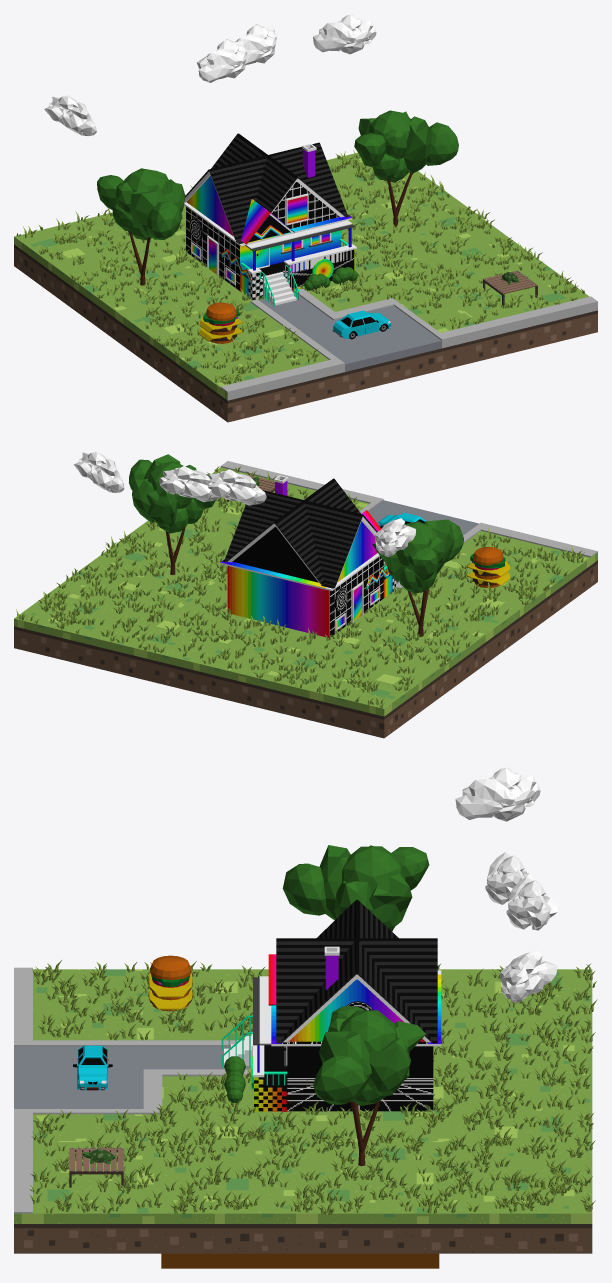
3 views of the same model, one above another, from view 1: azimuth 30°, elevation 25°; view 2: azimuth 150°, elevation 25°; view 3: azimuth 270°, elevation 25° (orthographic). The views are drawn at different scales.
Parts seen in each view (by area): view 1: Cube.006, Cube.1320, Circle.012_Grass_0.192, Cube.007, tree, tree.001, OBJRANDOM_HAMBURGER, VEHICLES_CAR, Cube.009; view 2: Cube.006, Cube.1320, Circle.012_Grass_0.192, Cube.007, tree.001, tree, OBJRANDOM_HAMBURGER; view 3: Cube.006, Circle.012_Grass_0.192, Cube.1320, tree, Cube.007, tree.001, UNDERGROUND_ART_PIECE_VAN_GOGH, OBJRANDOM_HAMBURGER, VEHICLES_CAR, Cube.009.
Part boxes in pixels (left/top/right/bottom): Cube.006: left=14, top=152, right=597, bottom=422; Cube.1320: left=184, top=133, right=356, bottom=306; Circle.012_Grass_0.192: left=16, top=150, right=584, bottom=384; Cube.007: left=44, top=14, right=376, bottom=136; tree: left=354, top=110, right=458, bottom=227; tree.001: left=97, top=168, right=185, bottom=285; OBJRANDOM_HAMBURGER: left=199, top=302, right=243, bottom=343; VEHICLES_CAR: left=332, top=310, right=391, bottom=339; Cube.009: left=483, top=270, right=537, bottom=305; Cube.006: left=14, top=461, right=597, bottom=738; Cube.1320: left=220, top=475, right=395, bottom=637; Circle.012_Grass_0.192: left=16, top=466, right=584, bottom=708; Cube.007: left=73, top=451, right=415, bottom=557; tree.001: left=372, top=519, right=463, bottom=636; tree: left=128, top=454, right=215, bottom=574; OBJRANDOM_HAMBURGER: left=466, top=547, right=510, bottom=587; Cube.006: left=14, top=967, right=592, bottom=1253; Circle.012_Grass_0.192: left=29, top=960, right=597, bottom=1214; Cube.1320: left=221, top=900, right=441, bottom=1111; tree: left=313, top=1006, right=425, bottom=1166; Cube.007: left=455, top=767, right=557, bottom=1003; tree.001: left=282, top=845, right=429, bottom=931; UNDERGROUND_ART_PIECE_VAN_GOGH: left=161, top=1253, right=439, bottom=1268; OBJRANDOM_HAMBURGER: left=148, top=955, right=193, bottom=1011; VEHICLES_CAR: left=73, top=1045, right=112, bottom=1090; Cube.009: left=69, top=1147, right=123, bottom=1187.
Bounding box in the file's own units: 4071 × 2301 × 4040.
39 materials, 6 textured.
